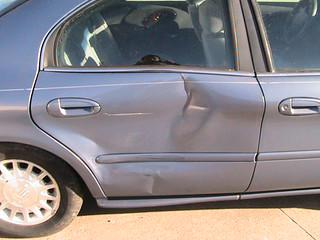doorouter-dent: (40, 10, 249, 202)
